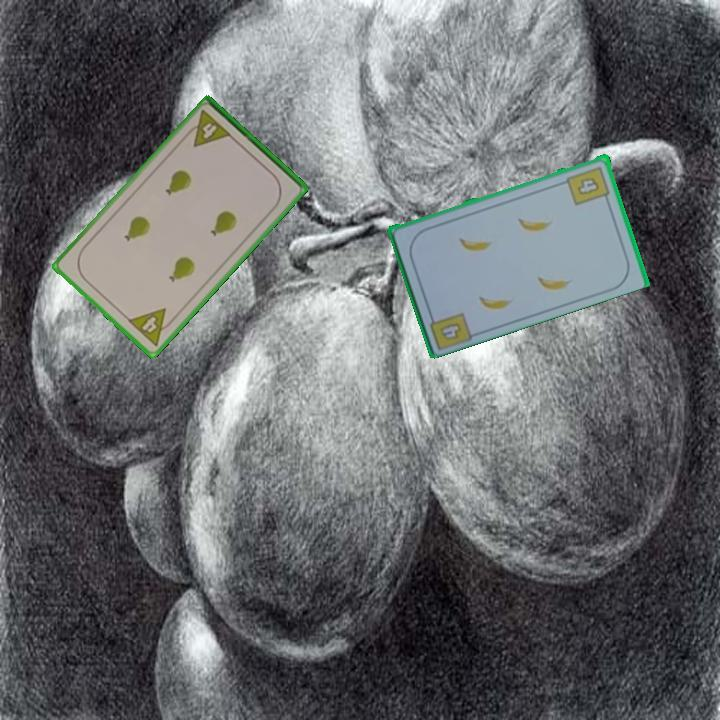4b: (564, 162, 613, 208), (425, 307, 475, 351)
4p: (124, 305, 179, 350), (181, 107, 234, 150)
